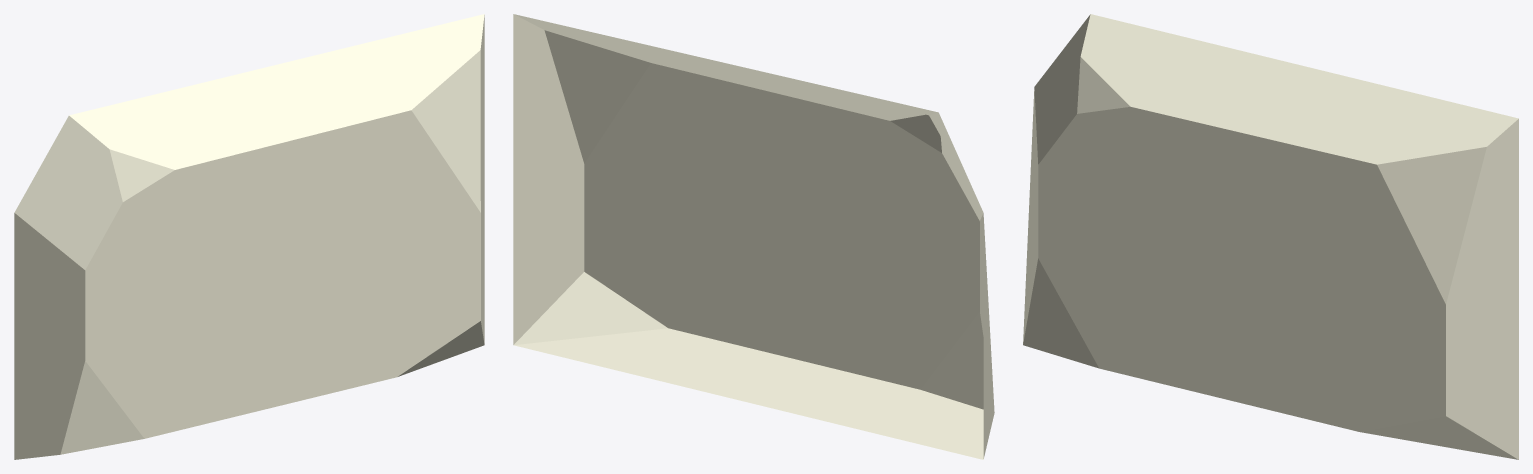
The model's file is stone_item_186.glb.
The picture shows the model from 3 angles, left to right: view 1: azimuth 30°, elevation 25°; view 2: azimuth 150°, elevation 25°; view 3: azimuth 330°, elevation 25°; orthographic projection. The views are drawn at different scales.
Visible parts, largest first — view 1: stone_item_186; view 2: stone_item_186; view 3: stone_item_186.
Boxes of the visible parts, x1,y1,x2,y2 form: stone_item_186: [14, 14, 484, 459]; stone_item_186: [513, 14, 994, 459]; stone_item_186: [1023, 14, 1518, 459].
Size of the model in its own units: 0.5352 by 0.3604 by 0.0661.
1 material, 1 textured.
